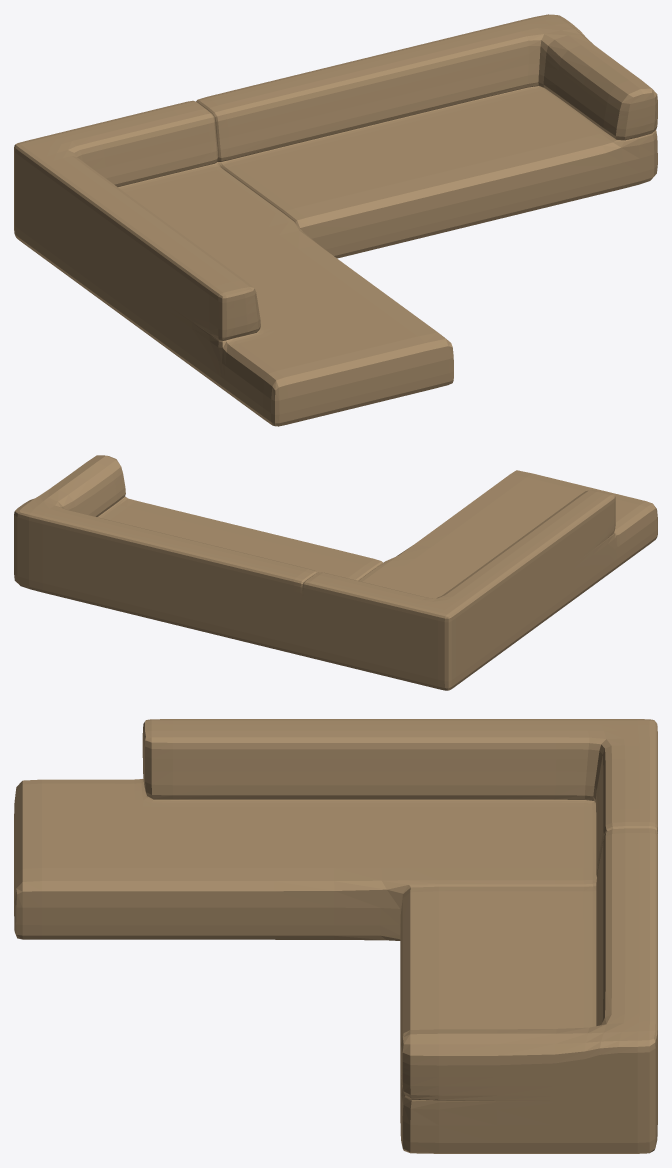
The model's file is sofa_4.obj.
3 views of the same model, one above another, from view 1: azimuth 30°, elevation 25°; view 2: azimuth 150°, elevation 25°; view 3: azimuth 270°, elevation 25° (orthographic). The views are drawn at different scales.
Size of the model in its own units: 6 by 1 by 5.
